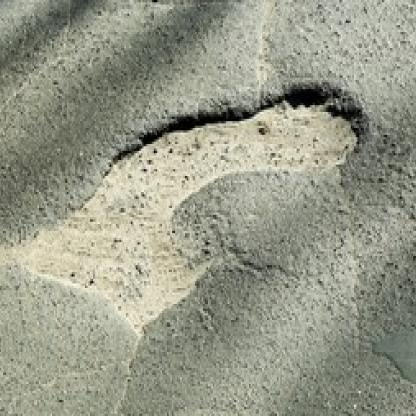pothole: (74, 85, 366, 302)
